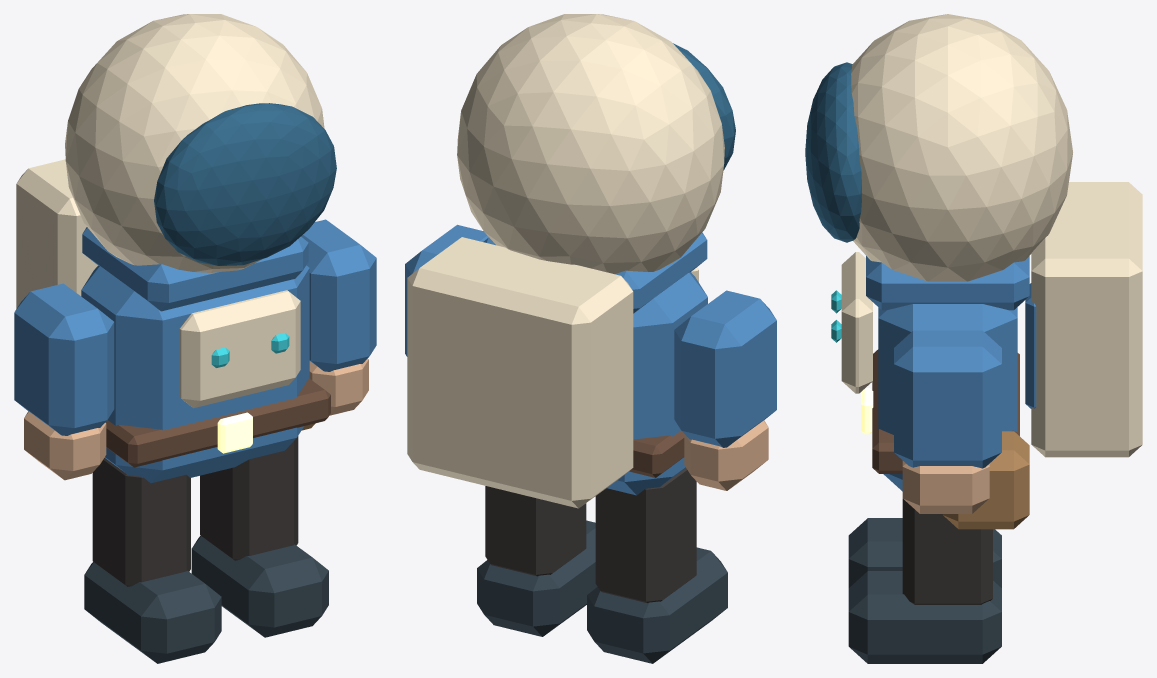
The model's file is person-astronaut.glb.
3 views of the same model, side by side, from view 1: azimuth 30°, elevation 25°; view 2: azimuth 150°, elevation 25°; view 3: azimuth 270°, elevation 25° (orthographic). The views are drawn at different scales.
Parts seen in each view (by area): view 1: helmet-shell, visor, tunic.009, sleeve.018, chest-console, leg.018, boot.018, boot.019, sleeve.019, leg.019, life-support, scarf.009 (+4 smaller); view 2: helmet-shell, life-support, sleeve.018, leg.018, boot.018, tunic.009, leg.019, boot.019, hand.018, scarf.009, belt.009, visor (+1 smaller); view 3: helmet-shell, life-support, sleeve.019, boot.019, visor, leg.019, tunic.009, scarf.009, satchel.009, hand.019, chest-console, boot.018 (+3 smaller).
Part boxes in pixels (<box>): helmet-shell: <box>65,14,324,272</box>; visor: <box>154,103,336,265</box>; tunic.009: <box>81,265,309,483</box>; sleeve.018: <box>14,283,114,435</box>; chest-console: <box>179,290,300,408</box>; leg.018: <box>92,458,190,586</box>; boot.018: <box>84,562,221,663</box>; boot.019: <box>191,535,328,637</box>; sleeve.019: <box>301,219,376,371</box>; leg.019: <box>200,436,298,560</box>; life-support: <box>16,159,97,308</box>; scarf.009: <box>82,227,308,311</box>; helmet-shell: <box>457,14,724,274</box>; life-support: <box>407,237,633,508</box>; sleeve.018: <box>674,290,776,447</box>; leg.018: <box>595,468,696,603</box>; boot.018: <box>587,547,727,663</box>; tunic.009: <box>607,272,707,495</box>; leg.019: <box>485,486,586,576</box>; boot.019: <box>477,520,597,636</box>; hand.018: <box>684,420,768,490</box>; scarf.009: <box>483,232,707,313</box>; belt.009: <box>629,430,684,477</box>; visor: <box>673,43,735,170</box>; helmet-shell: <box>851,14,1072,281</box>; life-support: <box>1031,182,1142,457</box>; sleeve.019: <box>894,330,1001,468</box>; boot.019: <box>848,571,1001,663</box>; visor: <box>805,62,861,242</box>; leg.019: <box>902,499,992,604</box>; tunic.009: <box>878,304,1017,491</box>; scarf.009: <box>866,256,1029,310</box>; satchel.009: <box>942,431,1029,529</box>; hand.019: <box>902,461,989,513</box>; chest-console: <box>841,252,872,393</box>; boot.018: <box>848,518,1001,587</box>.
Bounding box in the file's own units: 1.1 × 1.9 × 0.97.
